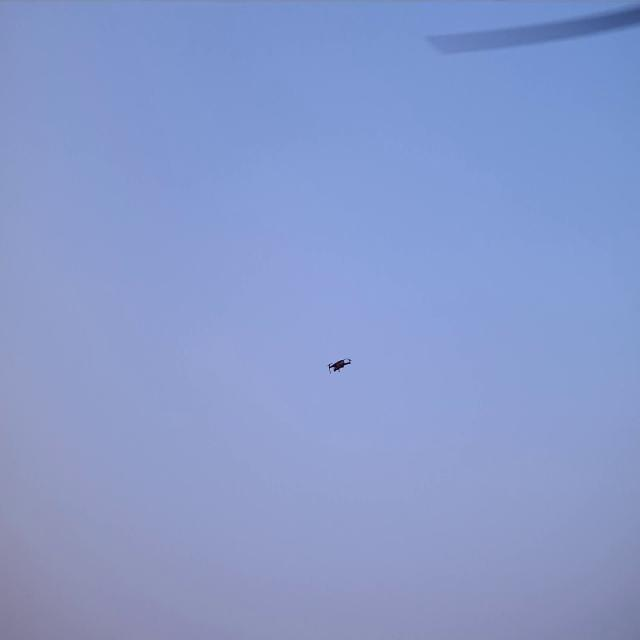UAV: (329, 359, 350, 372)
